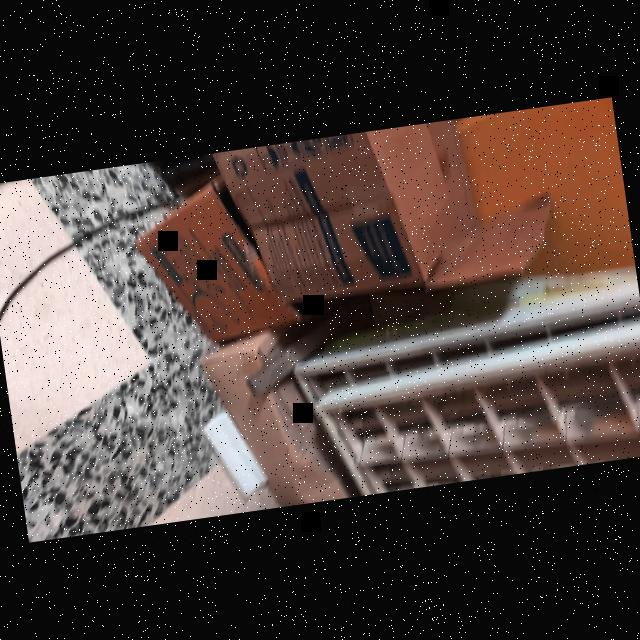cardboard_box: (213, 107, 564, 326), (127, 166, 310, 349)
